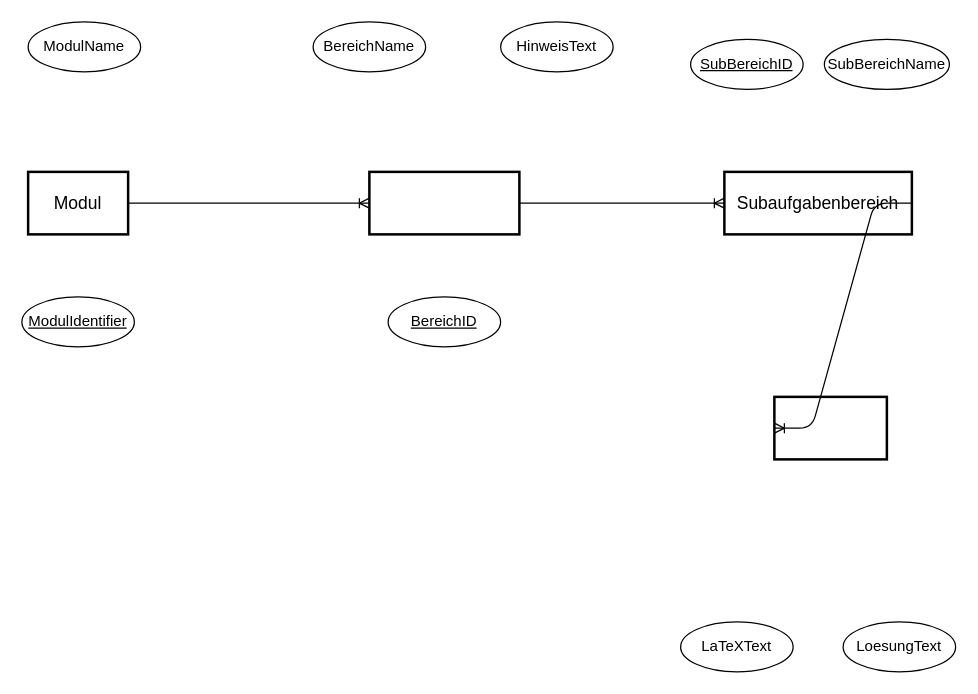
Some shapes in this 978 by 694 pixel diagram are drawn without their labels. Each missing label, with the box of its shape:
Aufgabe: (772, 395, 888, 460)
Aufgabenbereich: (368, 170, 520, 235)
